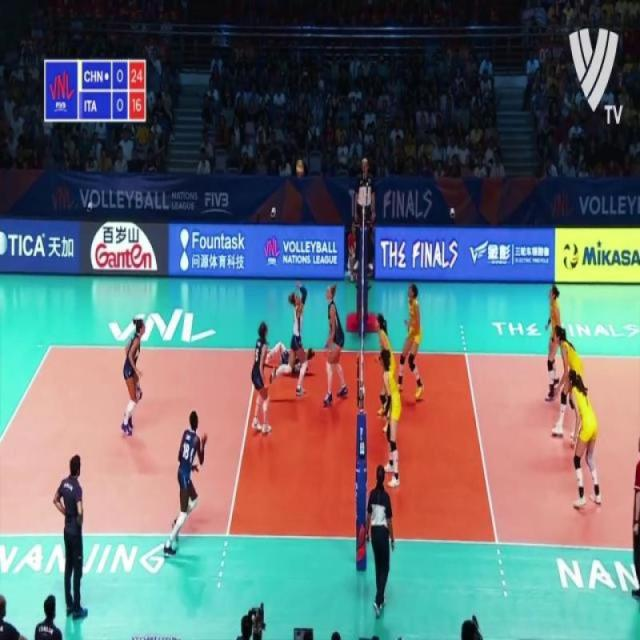volleyball: (562, 241, 580, 272), (294, 156, 306, 180)
